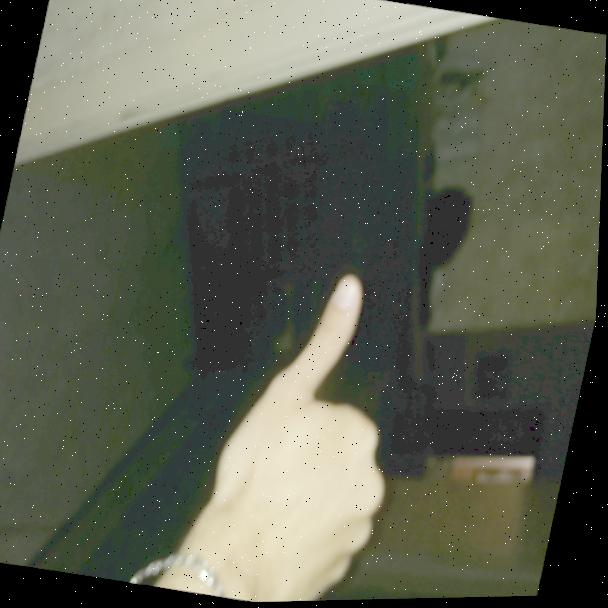five: (165, 239, 435, 605)
